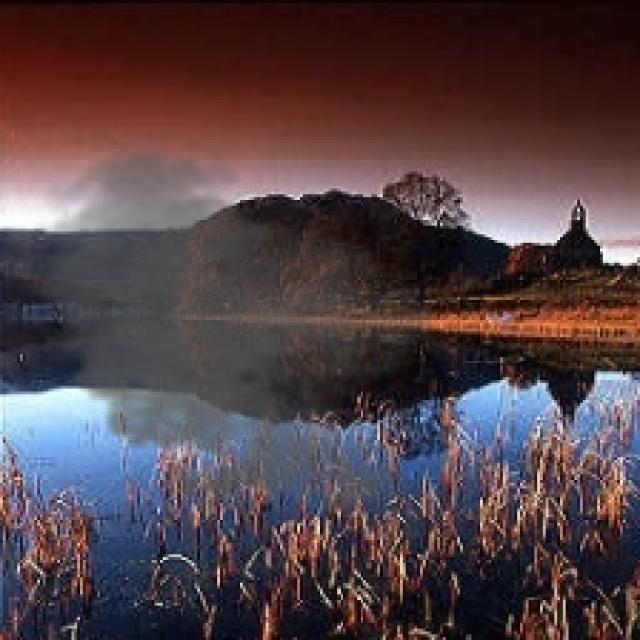Smoke: (9, 143, 432, 526)
